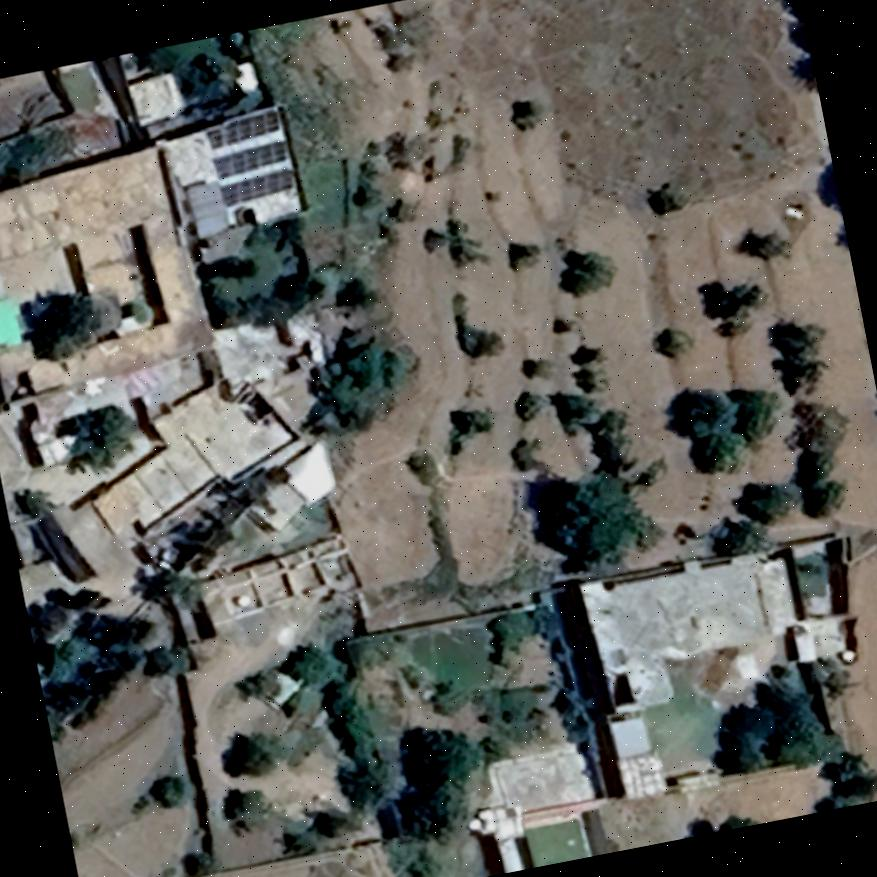Solarpanel: (206, 134, 292, 180), (199, 104, 285, 150), (212, 163, 298, 208)
